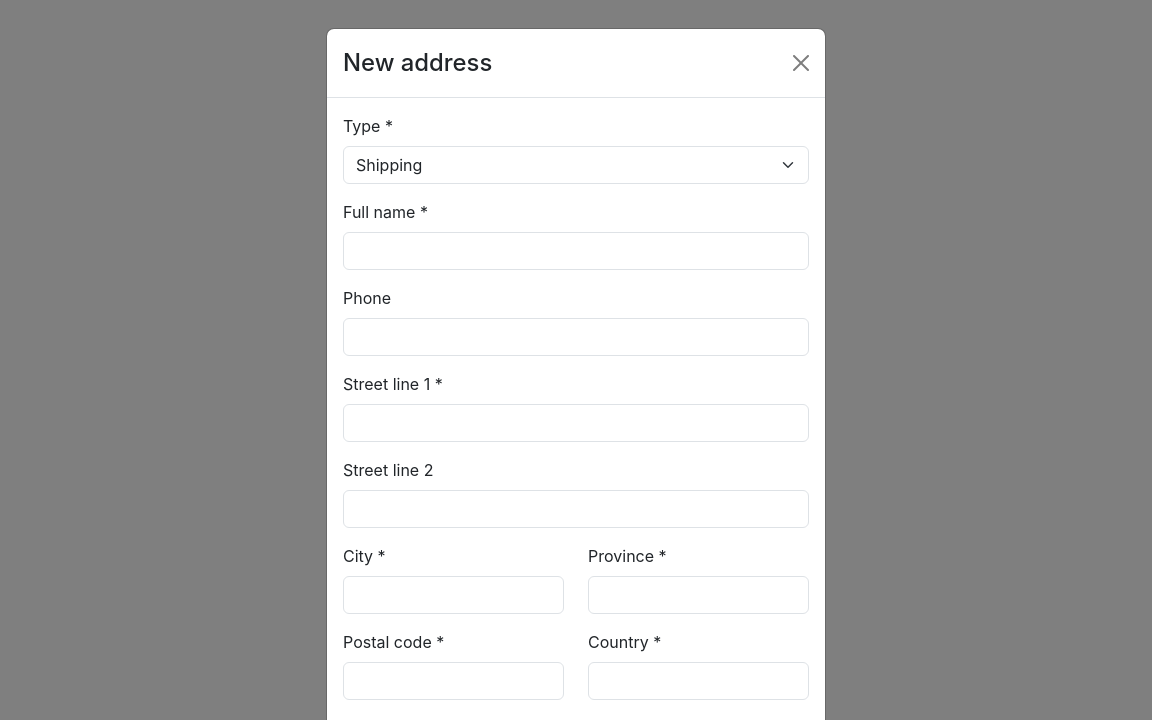
Test: CustomerAddressFormModal › disables the save button while saving
Type "Jane Doe" into the field with test id "input-address-full-name".
click(576, 251); type("Jane Doe")  # box top-left (343, 232), bottom-right (809, 270)
Type "Main Street 10" into the field with test id "input-address-street-line-1".
click(576, 423); type("Main Street 10")  # box top-left (343, 404), bottom-right (809, 442)
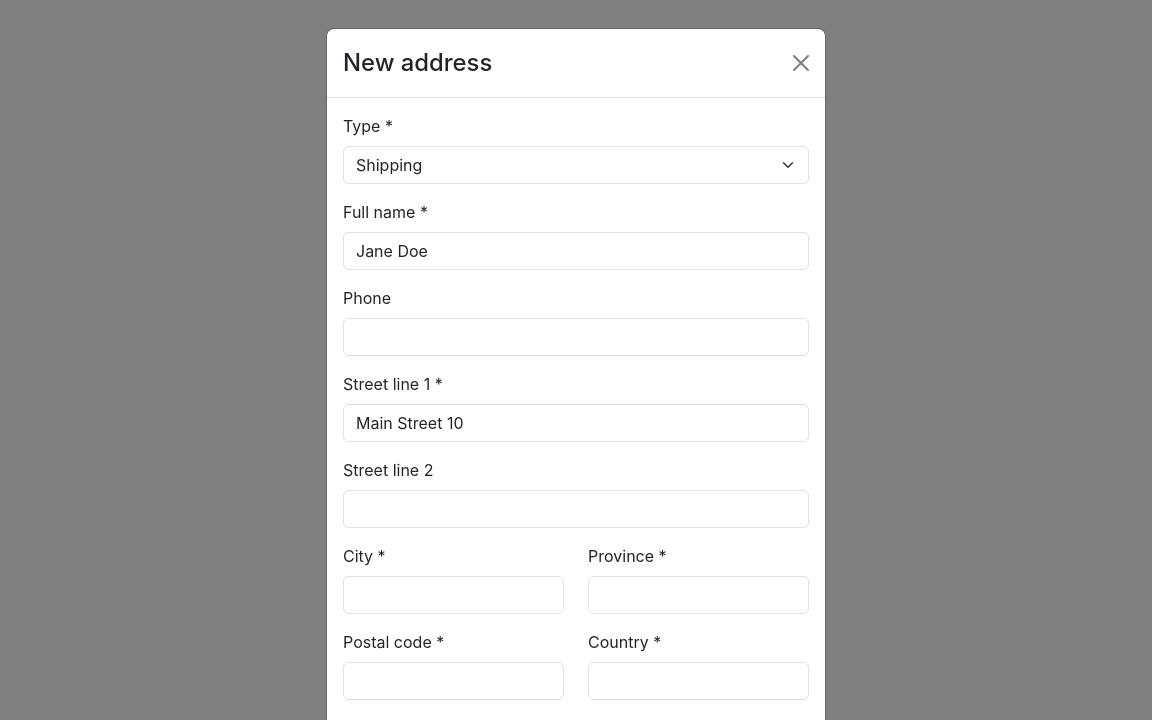
Type "Malaga" into the field with test id "input-address-city".
click(454, 595); type("Malaga")  # box top-left (343, 576), bottom-right (564, 614)
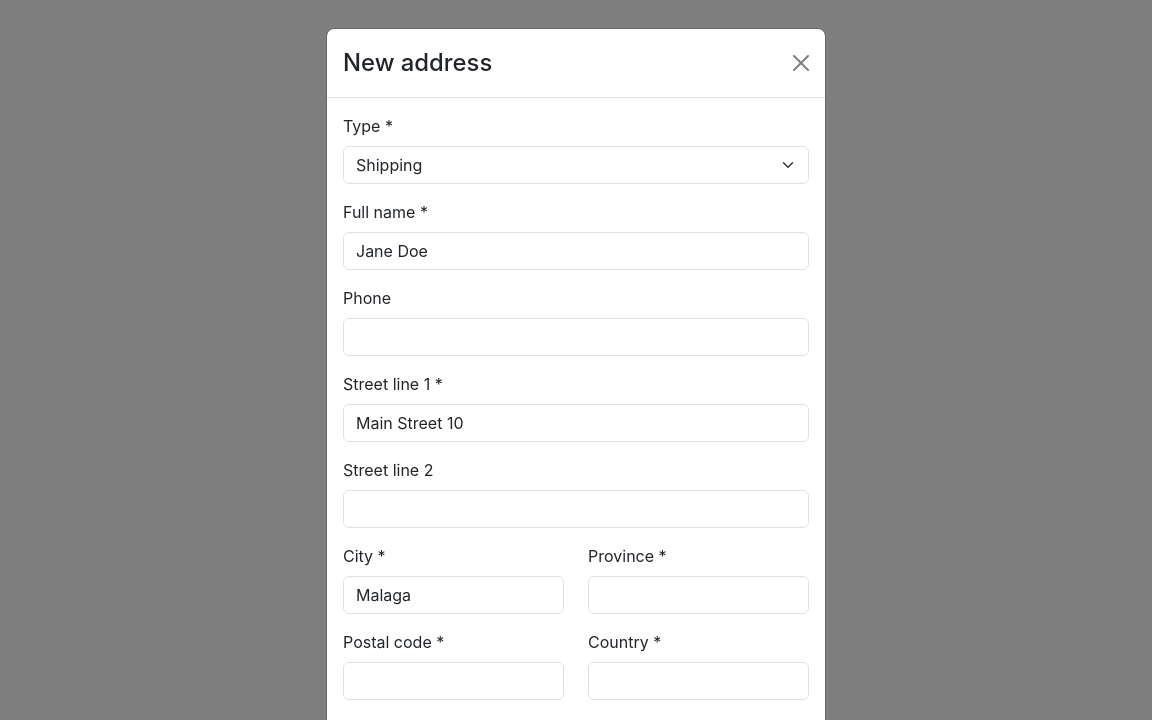
Type "Malaga" into the field with test id "input-address-province".
click(698, 595); type("Malaga")  # box top-left (588, 576), bottom-right (809, 614)
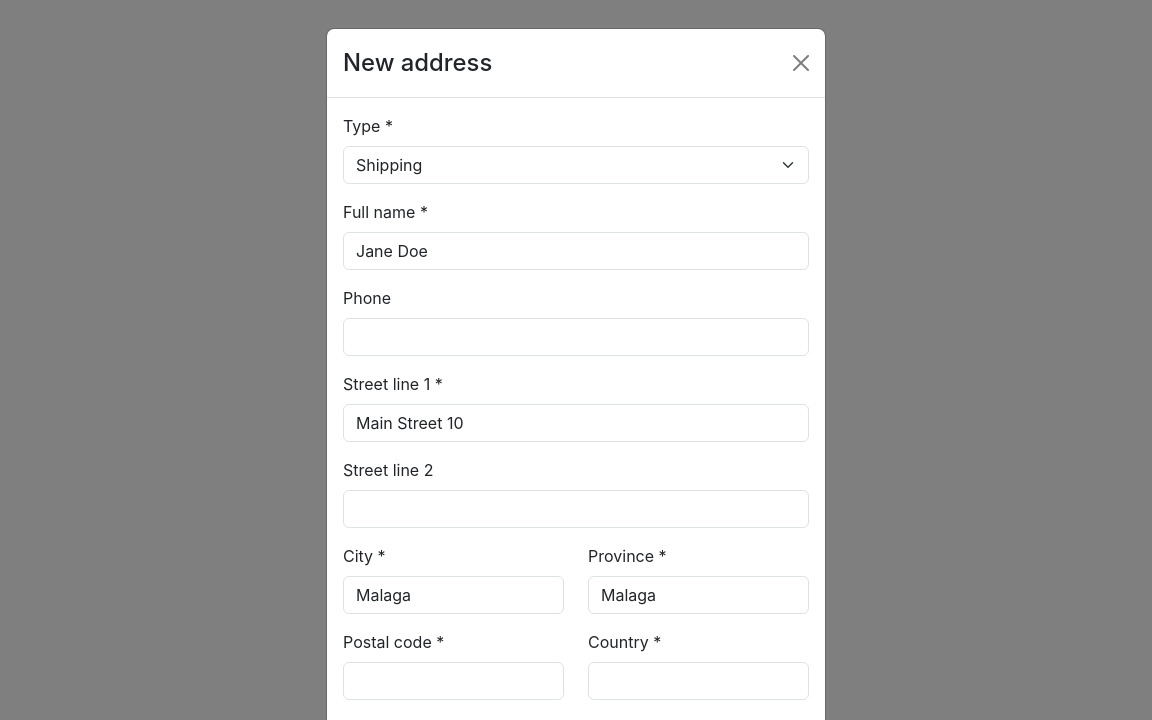
Type "29001" into the field with test id "input-address-postal-code".
click(454, 681); type("29001")  # box top-left (343, 662), bottom-right (564, 700)
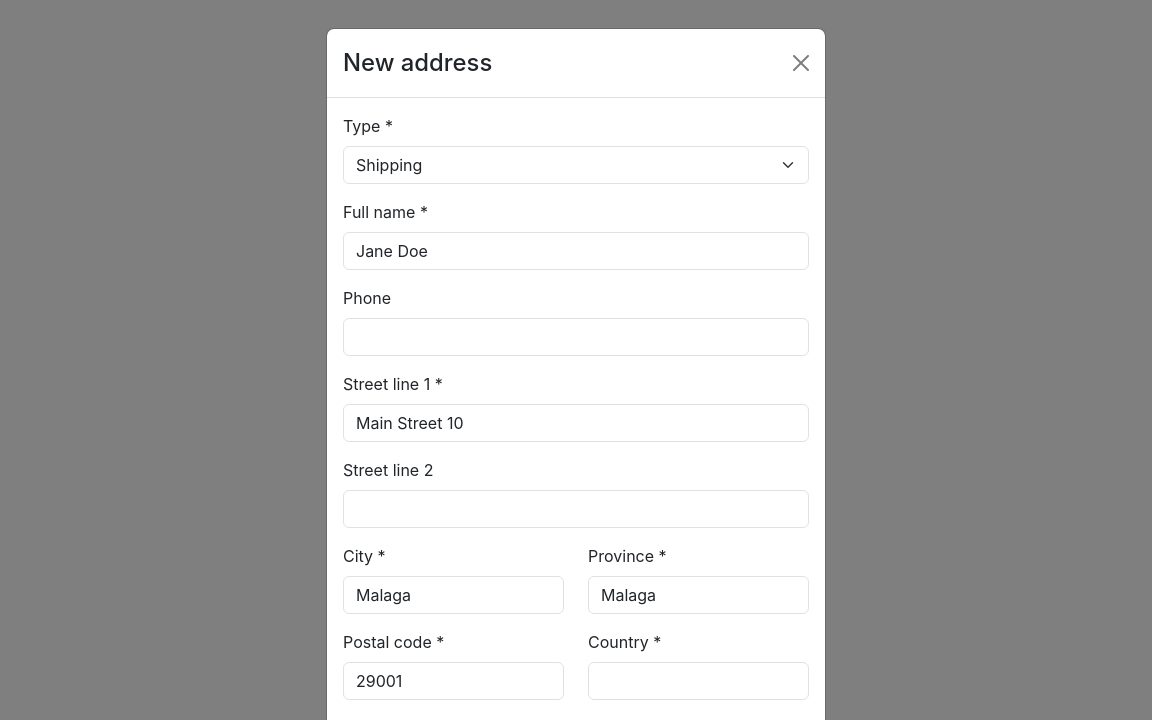
Type "Spain" into the field with test id "input-address-country".
click(698, 681); type("Spain")  # box top-left (588, 662), bottom-right (809, 700)
(page scrolled)
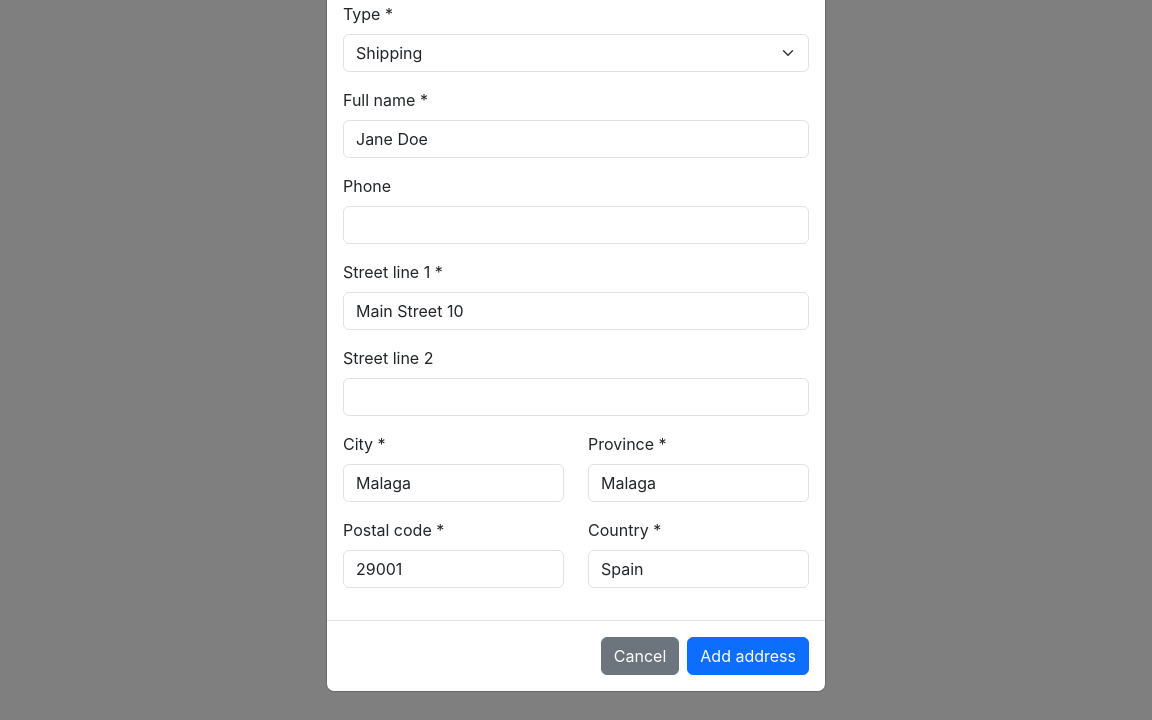
Click the button with test id "btn-modal-save".
click(748, 656)  # box top-left (687, 637), bottom-right (809, 675)
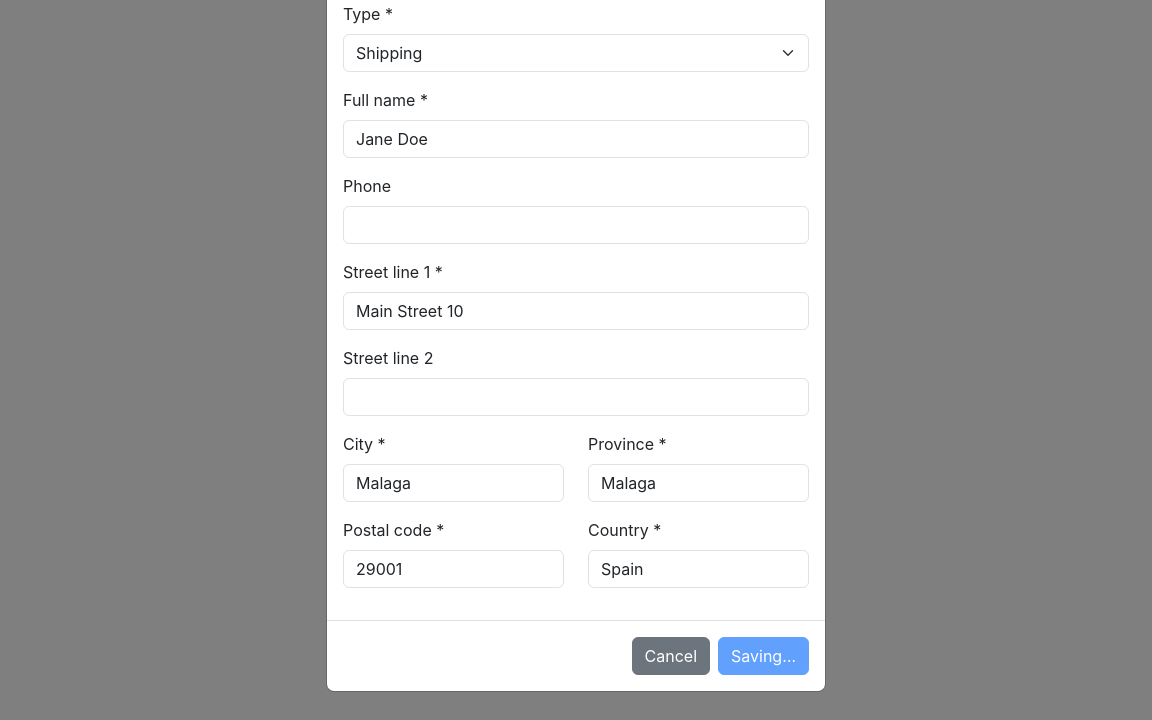
Check: the button with test id "btn-modal-save" is disabled, box top-left (718, 637), bottom-right (809, 675)
